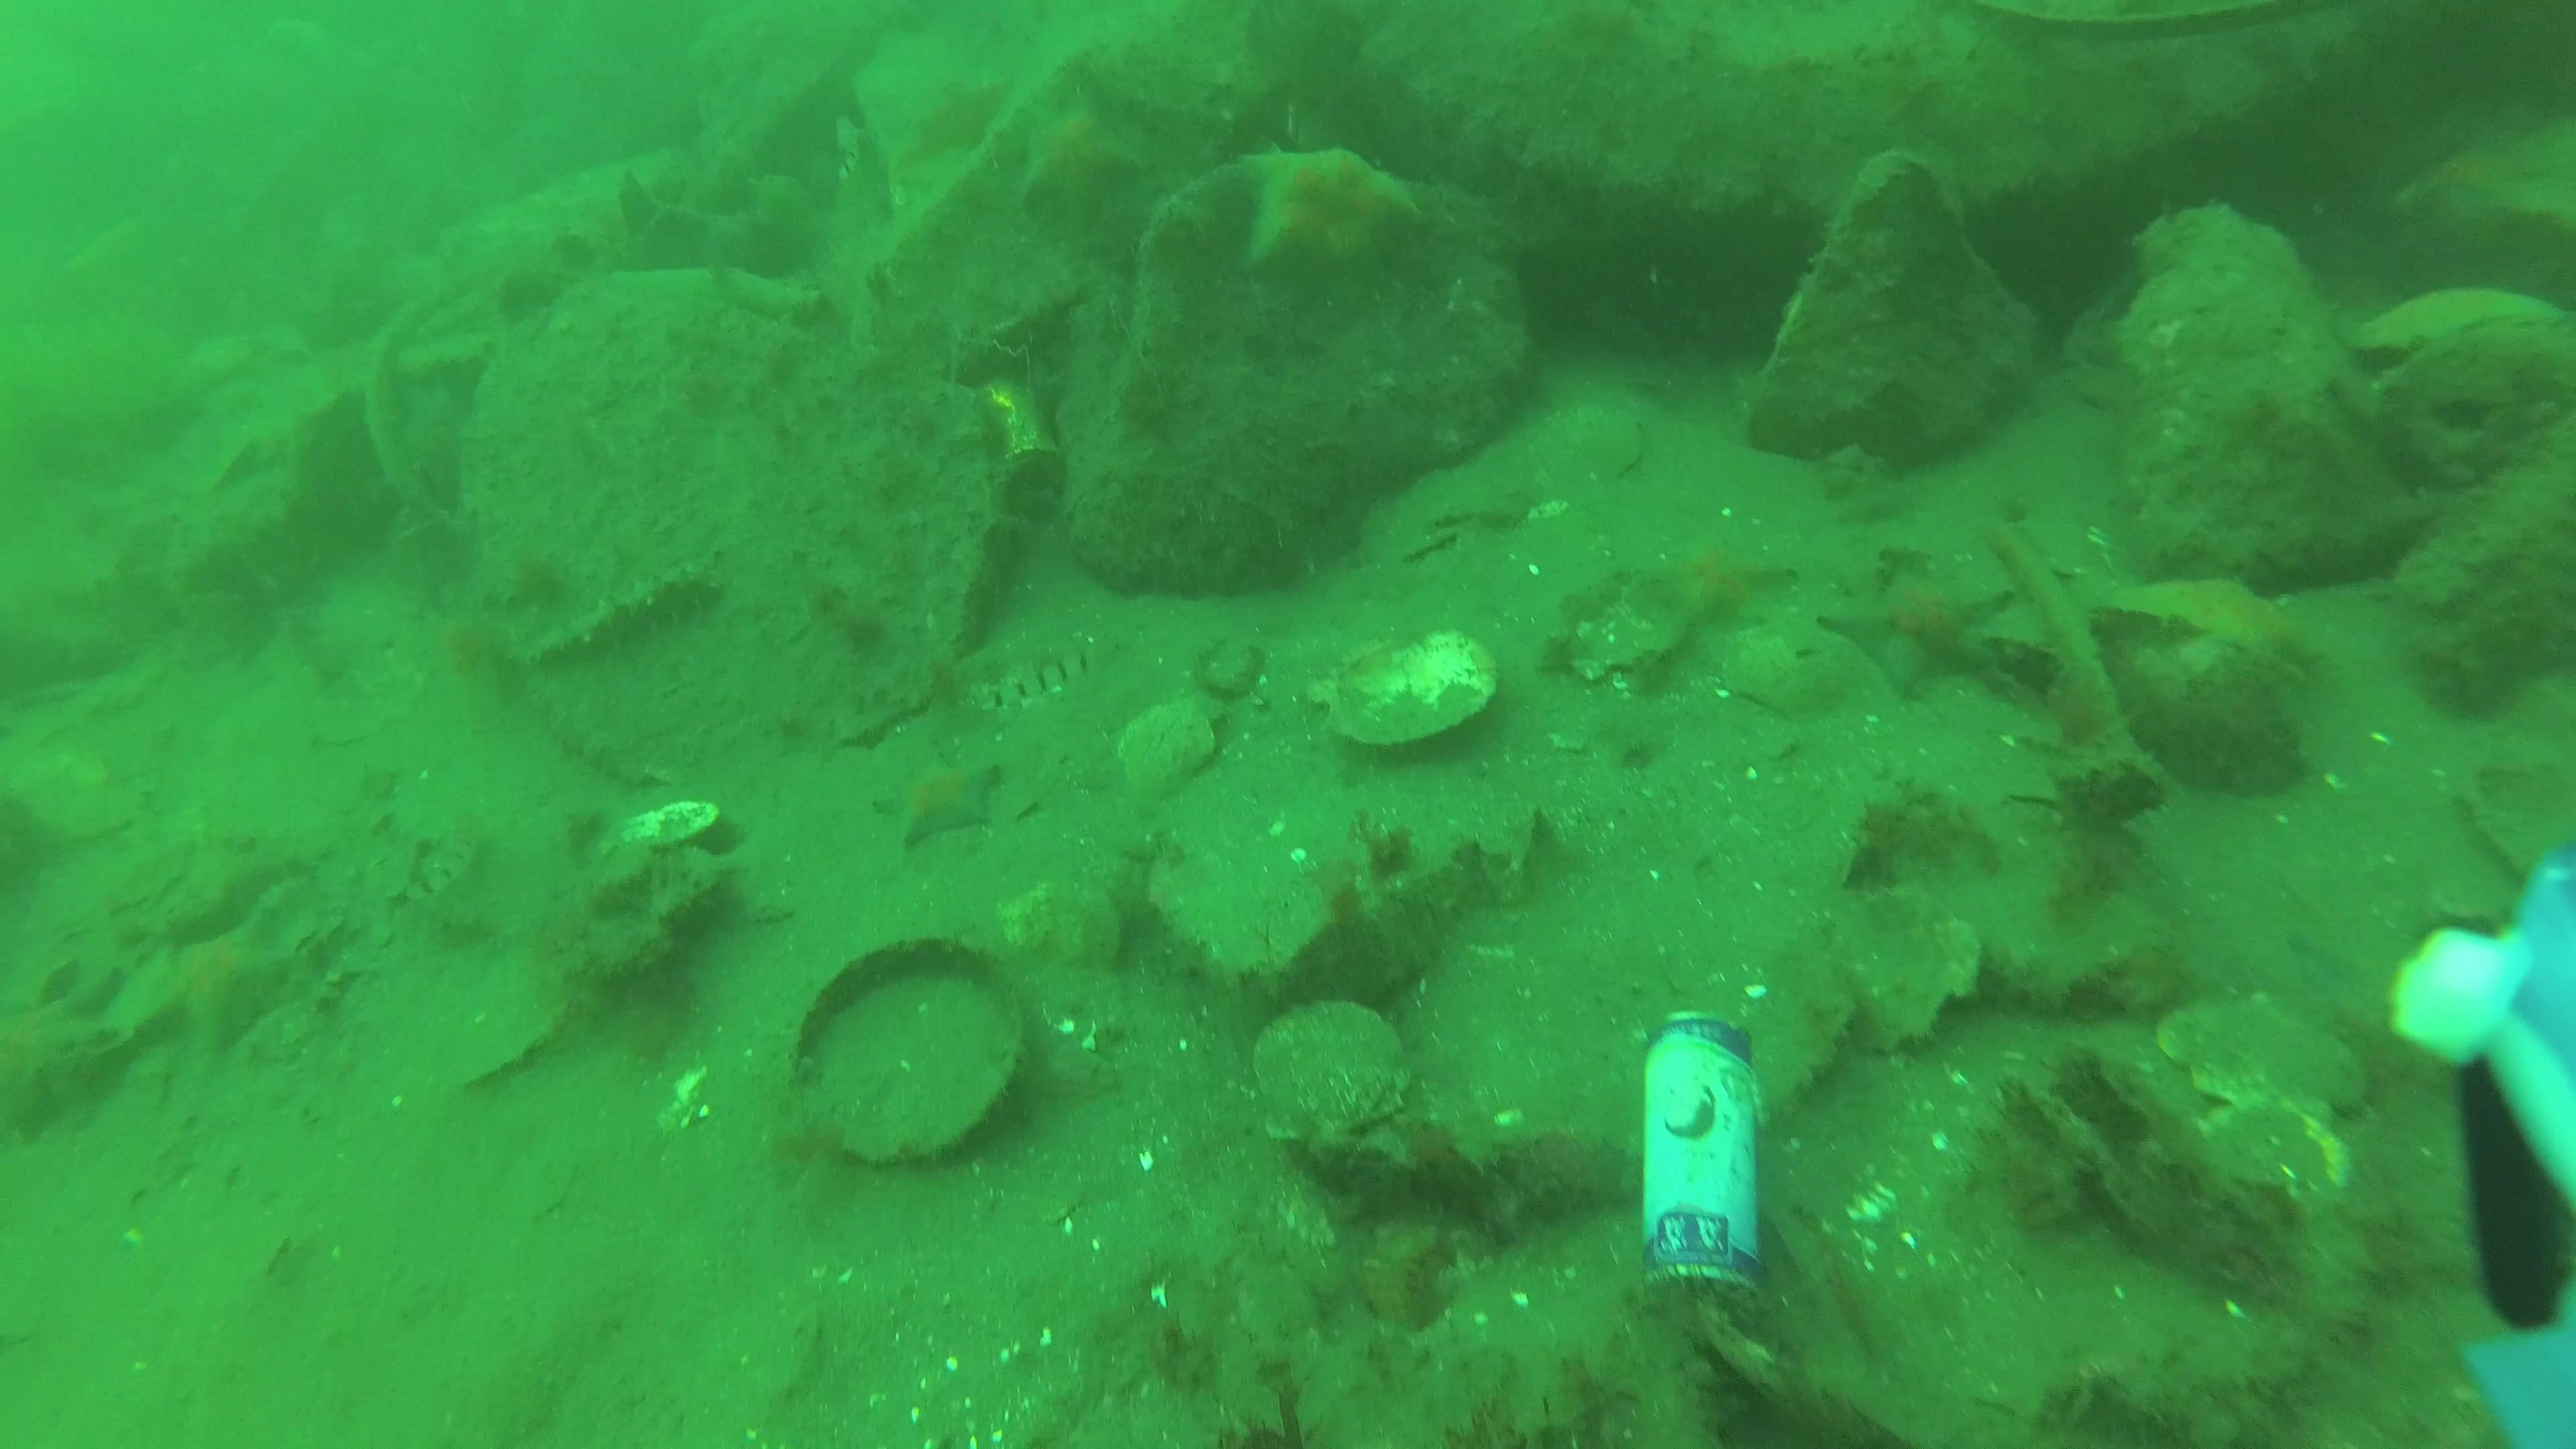holothurian: (525, 563, 715, 667)
scallop: (2160, 994, 2371, 1125), (1247, 996, 1412, 1145), (1001, 869, 1129, 980), (1113, 692, 1219, 800)
starfish: (145, 904, 304, 1076), (1829, 554, 2022, 694), (1244, 143, 1417, 285), (0, 964, 126, 1139), (2089, 566, 2304, 667), (1030, 83, 1139, 223), (2358, 283, 2567, 350), (1647, 543, 1799, 632), (874, 759, 1005, 849)
